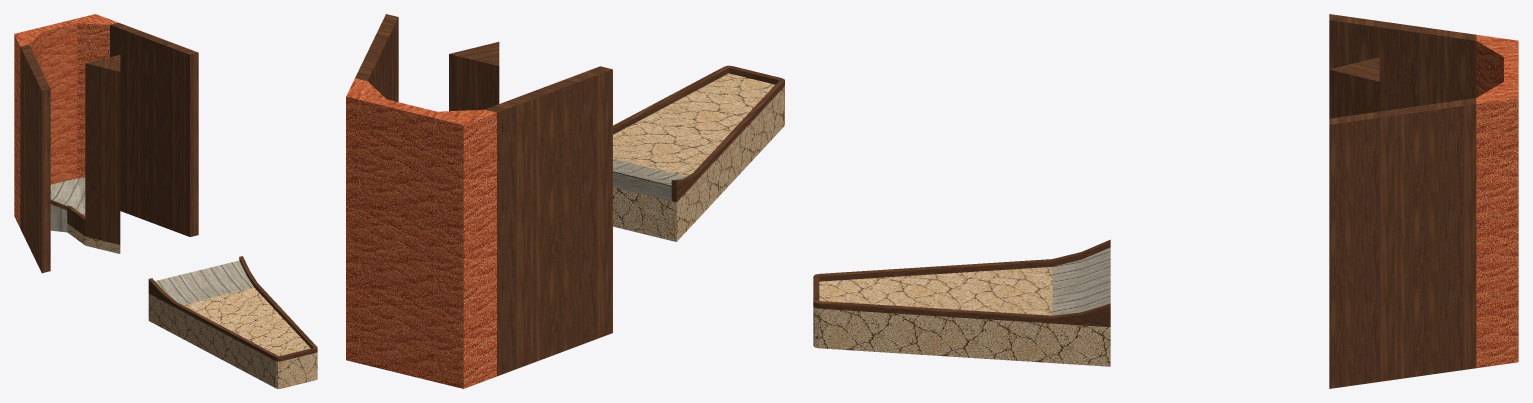
The model's file is Stage2-08.gltf.
3 views of the same model, side by side, from view 1: azimuth 30°, elevation 25°; view 2: azimuth 150°, elevation 25°; view 3: azimuth 270°, elevation 25° (orthographic). The views are drawn at different scales.
Visible parts, largest first — view 1: Cube; view 2: Cube; view 3: Cube.
Boxes of the visible parts, <box> form: Cube: <box>14,14,317,388</box>; Cube: <box>346,14,784,388</box>; Cube: <box>813,14,1518,388</box>.
Size of the model in its own units: 9 by 10 by 24.2.
Materials: 8 (8 with a texture image).
